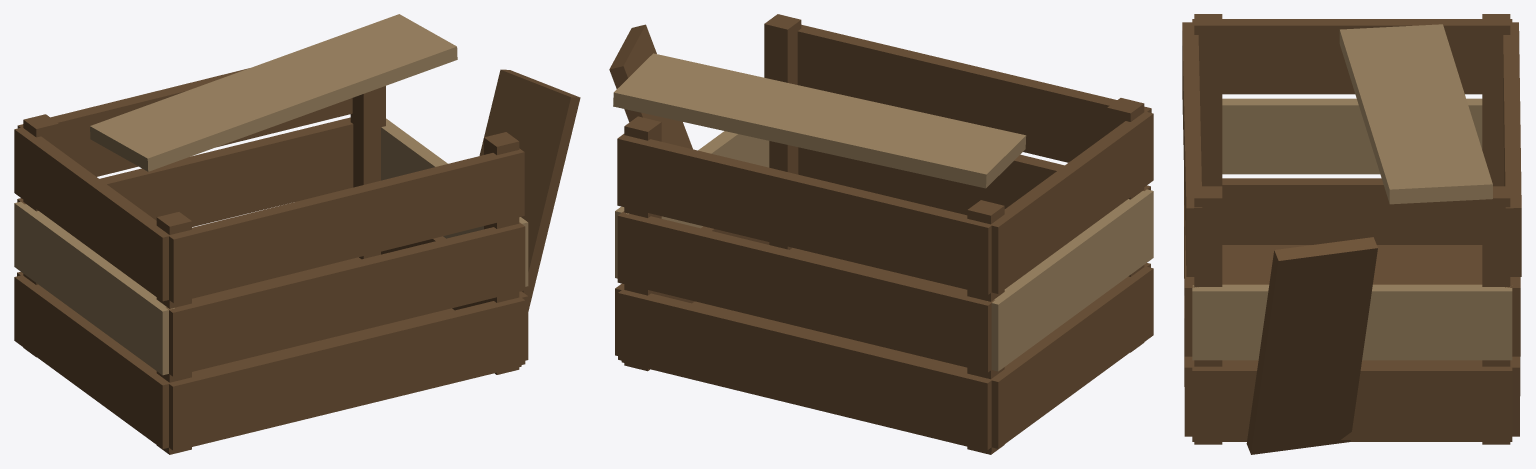
File: crate.glb
3 views of the same model, side by side, from view 1: azimuth 30°, elevation 25°; view 2: azimuth 150°, elevation 25°; view 3: azimuth 270°, elevation 25° (orthographic). The views are drawn at different scales.
Parts seen in each view (by area): view 1: crate; view 2: crate; view 3: crate.
Boxes of the visible parts, x1,y1,x2,y2 form: crate: [14, 14, 580, 454]; crate: [609, 14, 1153, 454]; crate: [1182, 14, 1521, 454].
Size of the model in its own units: 0.7139 by 0.3724 by 0.4242.
